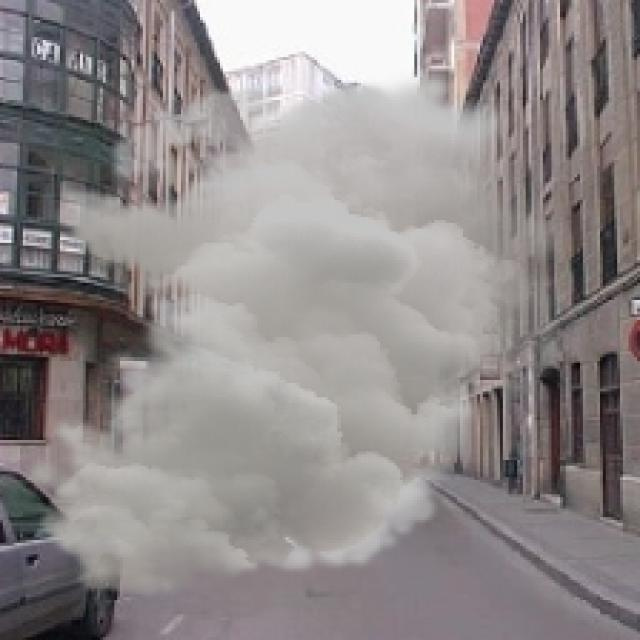smoke: (17, 69, 586, 600)
